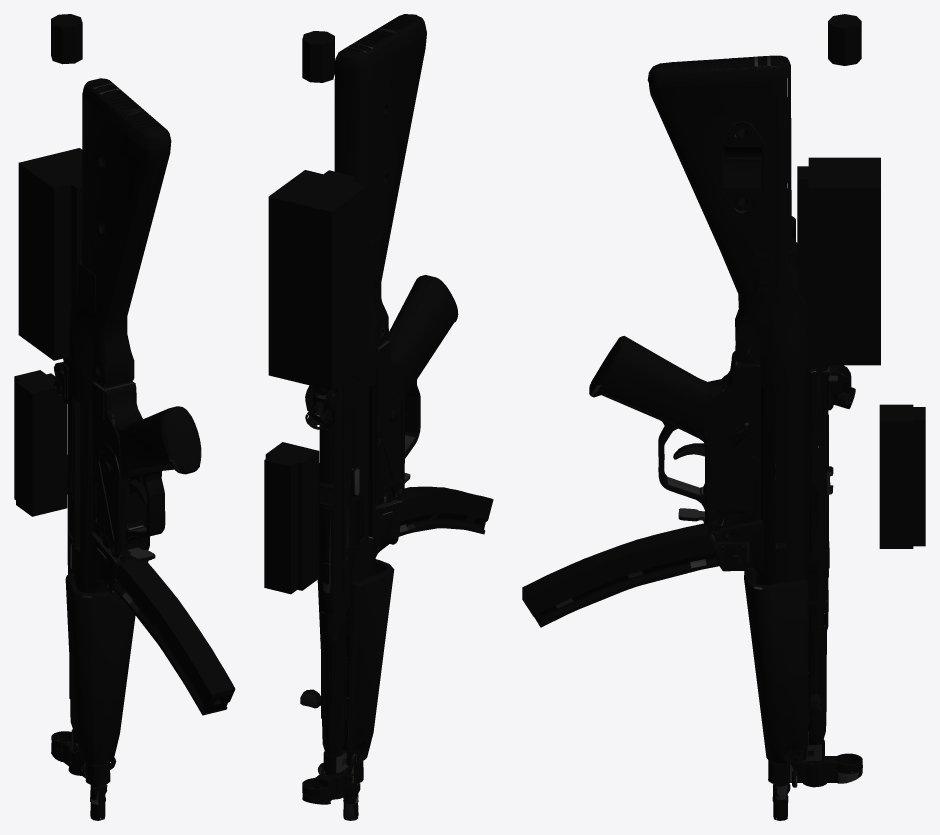
File: MP5A3__Adapter_HK_3Lug__Handguard_MP5_Rail__Light_Pistol__Mount_HK_Claw.fbx
3 views of the same model, side by side, from view 1: azimuth 30°, elevation 25°; view 2: azimuth 150°, elevation 25°; view 3: azimuth 270°, elevation 25° (orthographic). The views are drawn at different scales.
Visible parts, largest first — view 1: asset_MP5A3.001; view 2: asset_MP5A3.001; view 3: asset_MP5A3.001.
Part boxes in pixels (box(x1,y1,x2,y2)): asset_MP5A3.001: box(14, 14, 235, 820); asset_MP5A3.001: box(264, 14, 493, 820); asset_MP5A3.001: box(522, 14, 925, 820).
Bounding box in the file's own units: 0.0324 × 0.378 × 0.1734.
